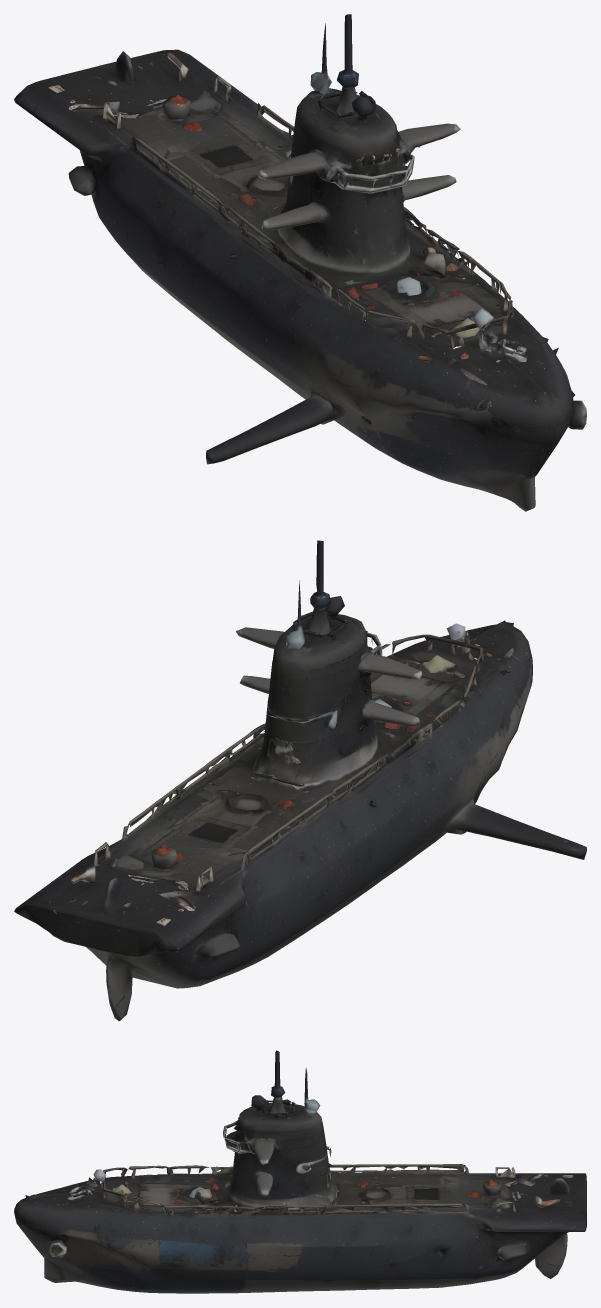
Rendered from submarine.glb.
3 views of the same model, one above another, from view 1: azimuth 30°, elevation 25°; view 2: azimuth 150°, elevation 25°; view 3: azimuth 270°, elevation 25° (orthographic). The views are drawn at different scales.
Parts seen in each view (by area): view 1: body; view 2: body; view 3: body.
Boxes of the visible parts, box(x1,y1,x2,y2) form: body: box(14, 14, 586, 511); body: box(14, 540, 586, 1021); body: box(14, 1050, 586, 1293).
Bounding box in the file's own units: 5.21 × 5.93 × 13.
Materials: 1 (1 with a texture image).
